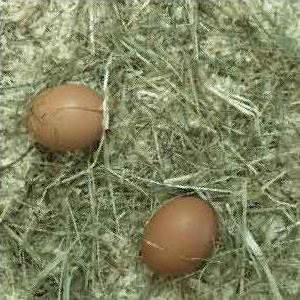egg: (141, 195, 219, 277), (27, 84, 106, 152)
